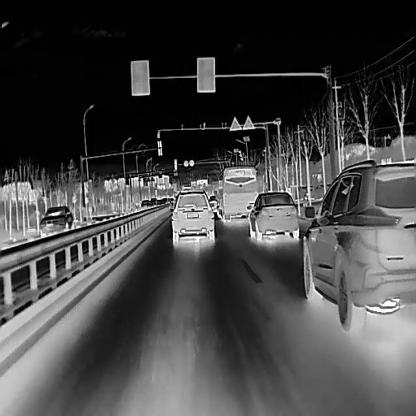bus: (216, 167, 258, 221)
car: (300, 156, 416, 336), (245, 191, 299, 240), (171, 189, 215, 247), (38, 203, 74, 237), (140, 198, 150, 214), (149, 196, 156, 212)
